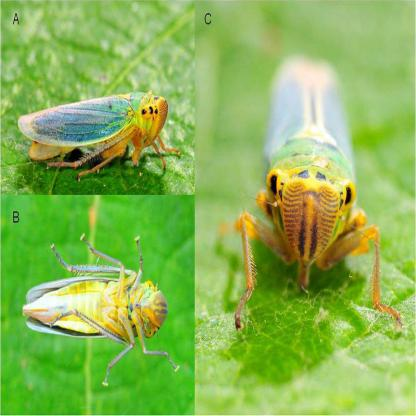Green-Leafhopper: (228, 48, 400, 326), (19, 233, 181, 380), (16, 90, 184, 192)
